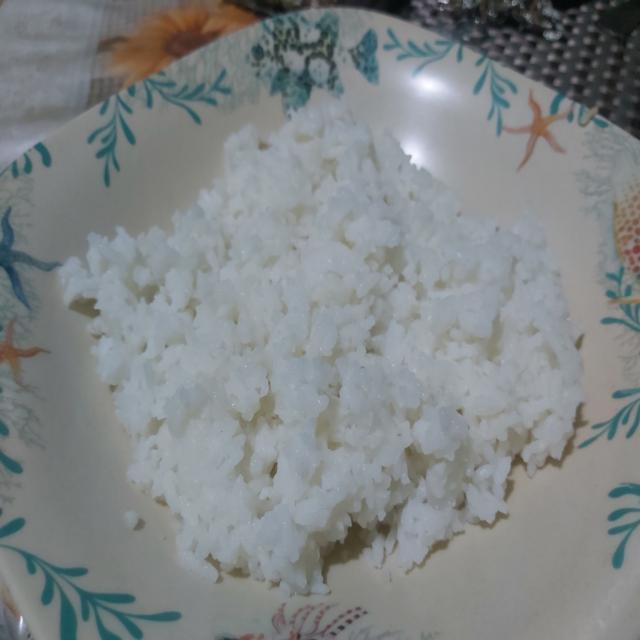Chicken -Chicken Inasal-: (120, 103, 582, 584)
